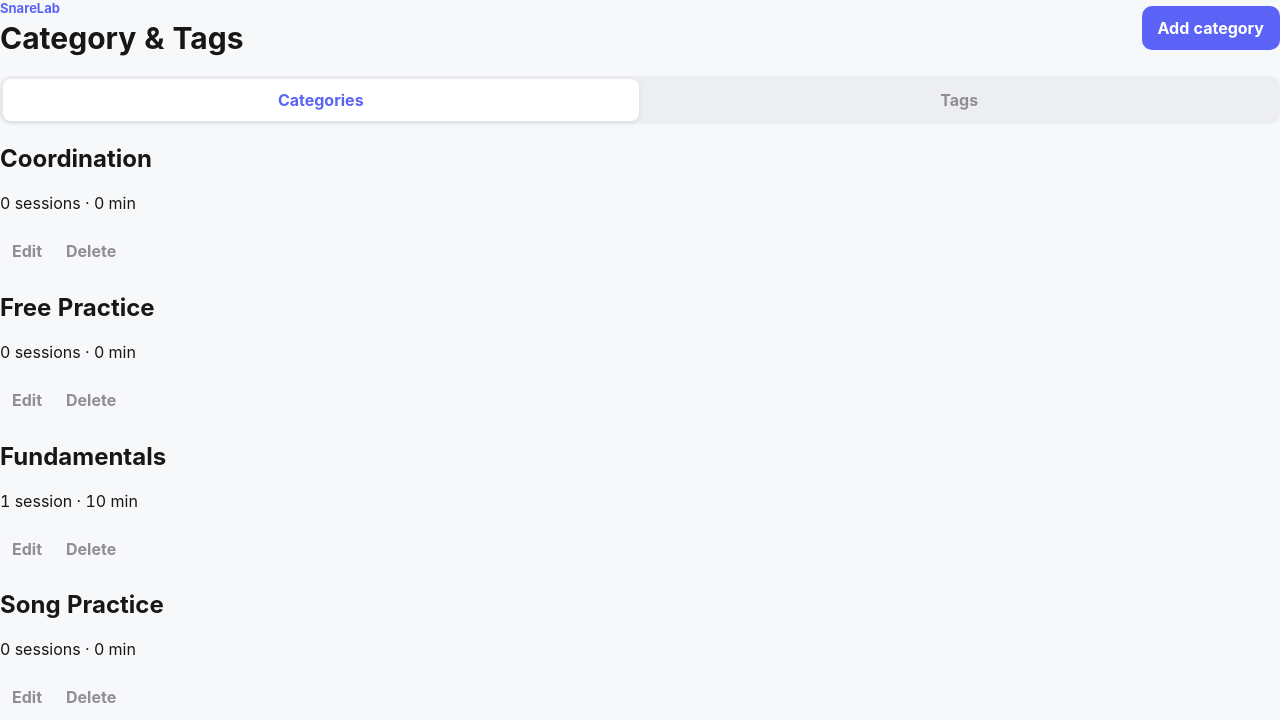
Test case: CategoryPage › creates and edits a category
The image size is (1280, 720).
Expected: the heading "Fundamentals" is shown, top-left (0, 442), bottom-right (166, 471)
Click the button "Add category" at (1211, 28), box top-left (1142, 6), bottom-right (1279, 50)
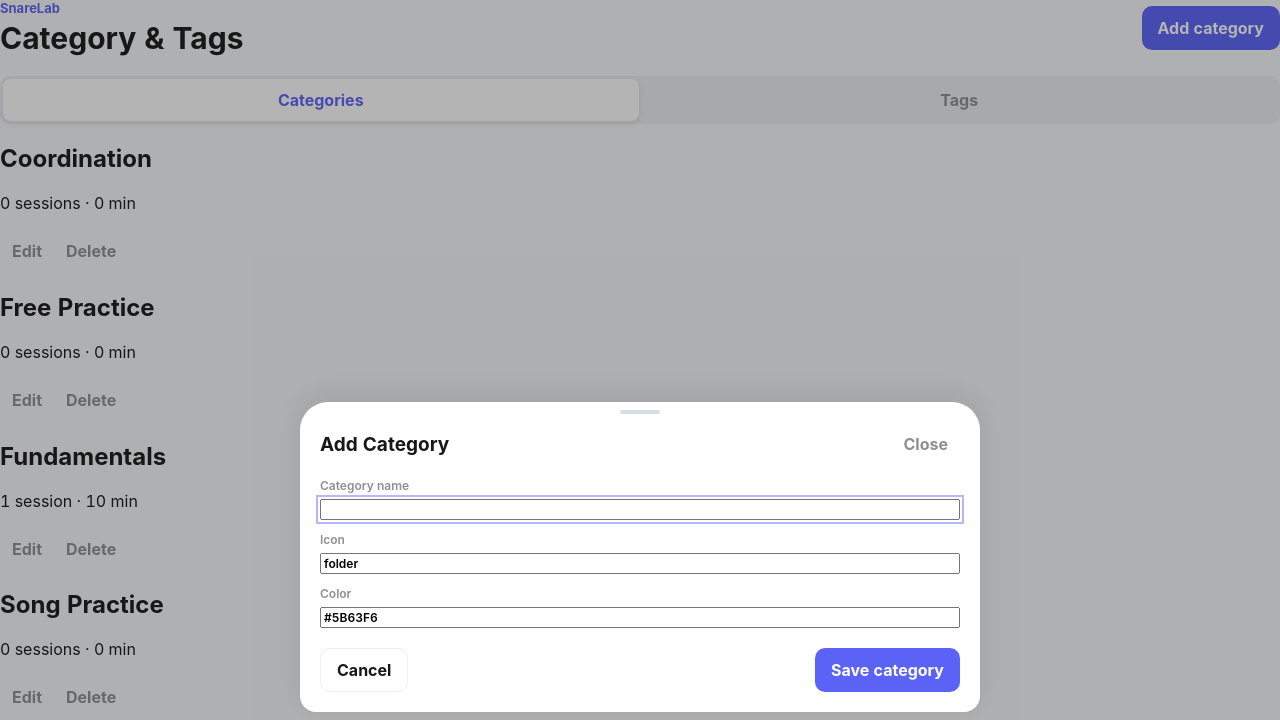
Type "Warmup" into the field labelled "Category name" at (640, 510), box top-left (320, 499), bottom-right (960, 520)
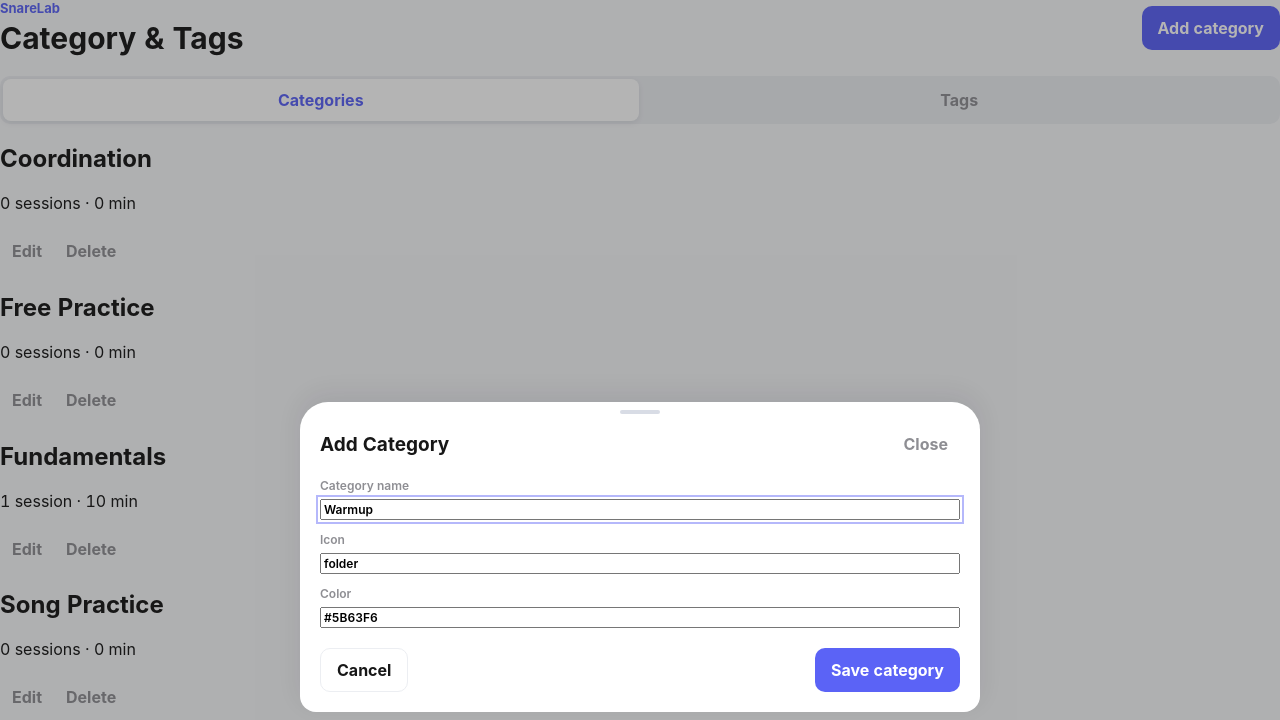
Click the button "Save category" at (888, 670), box top-left (815, 648), bottom-right (960, 692)
(page scrolled)
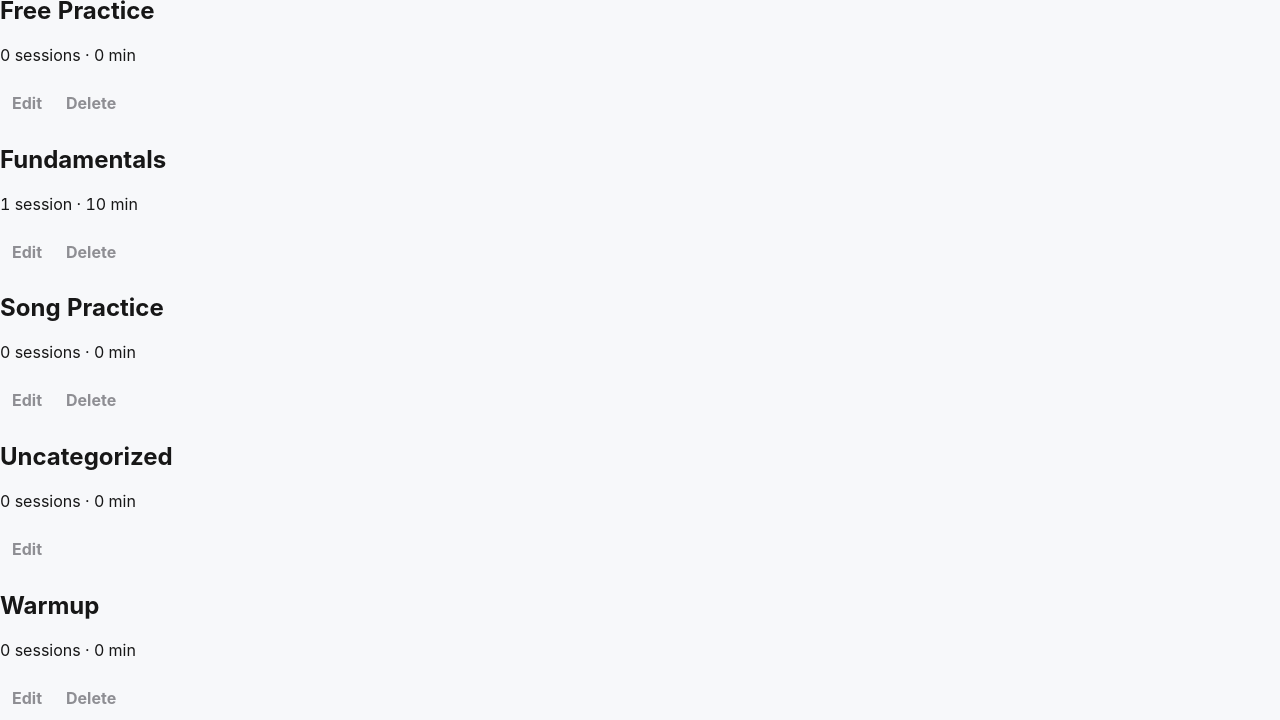
Expected: the heading "Warmup" is shown, top-left (0, 591), bottom-right (99, 620)
Click the button with aria-label "Edit Warmup" at (27, 698), box top-left (0, 676), bottom-right (54, 719)
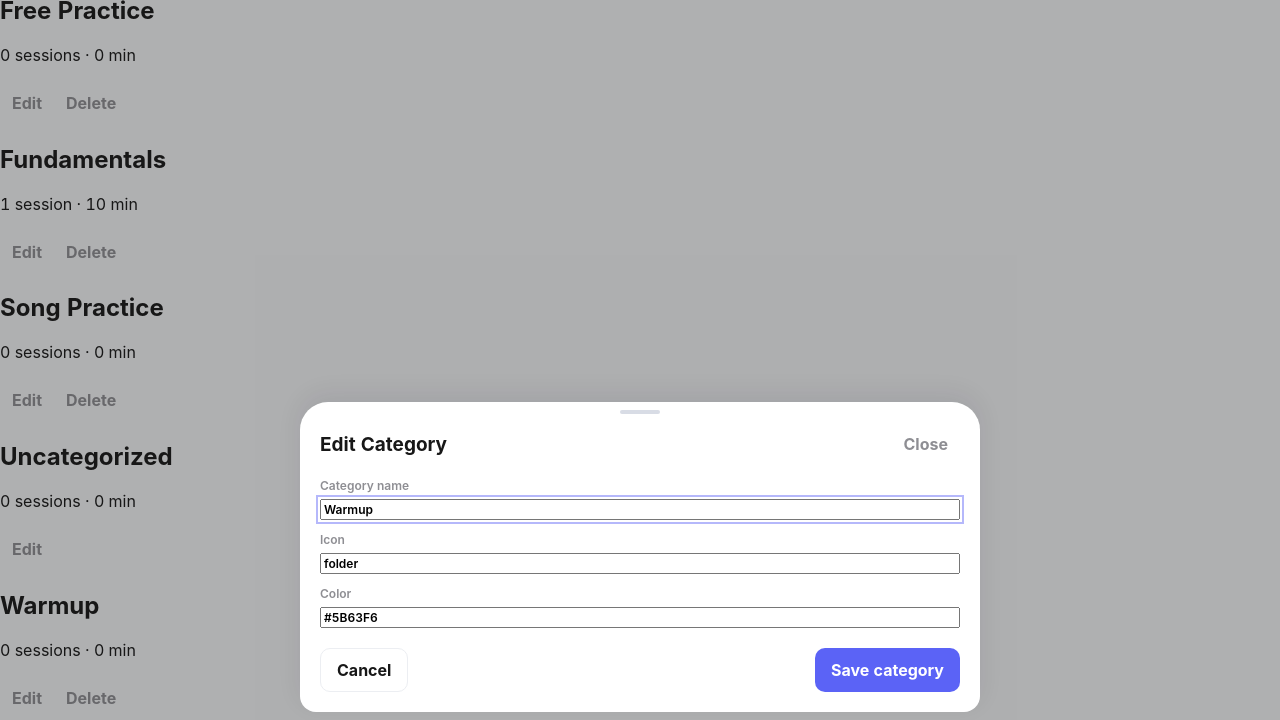
Replace the text in the field labelled "Category name" with "Daily Warmup" at (640, 510), box top-left (320, 499), bottom-right (960, 520)
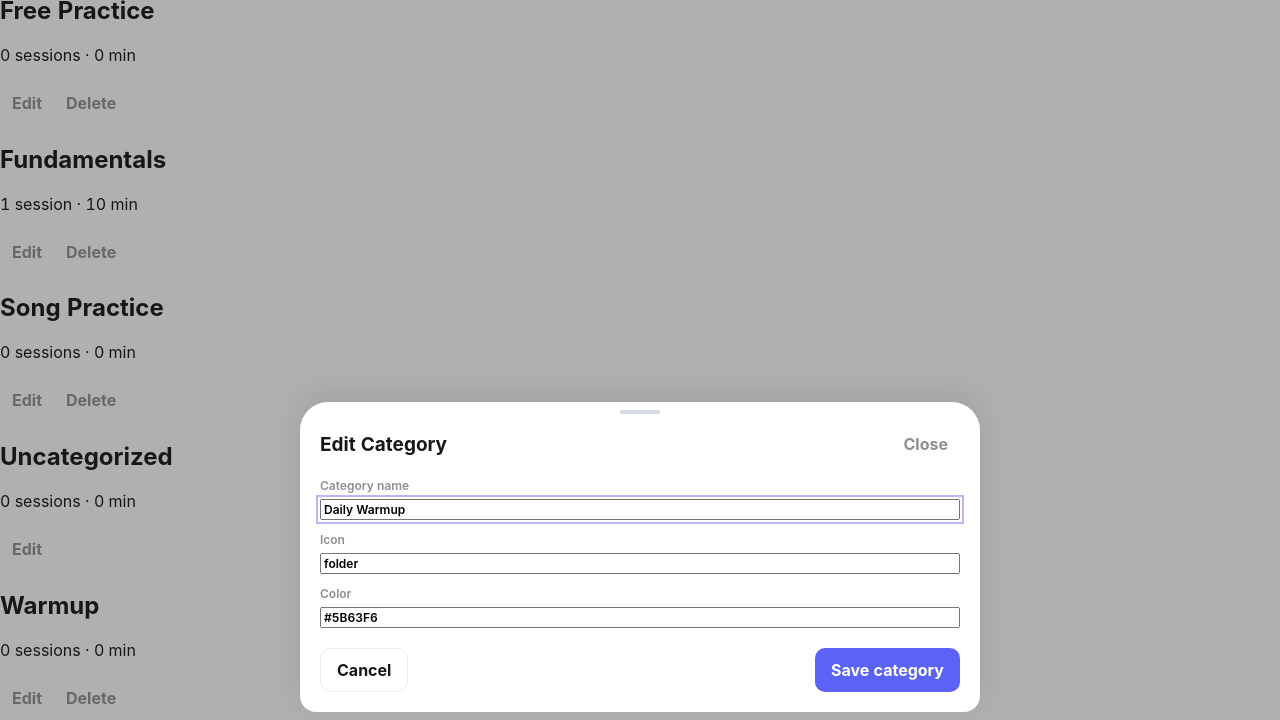
Click the button "Save category" at (888, 670), box top-left (815, 648), bottom-right (960, 692)
(page scrolled)
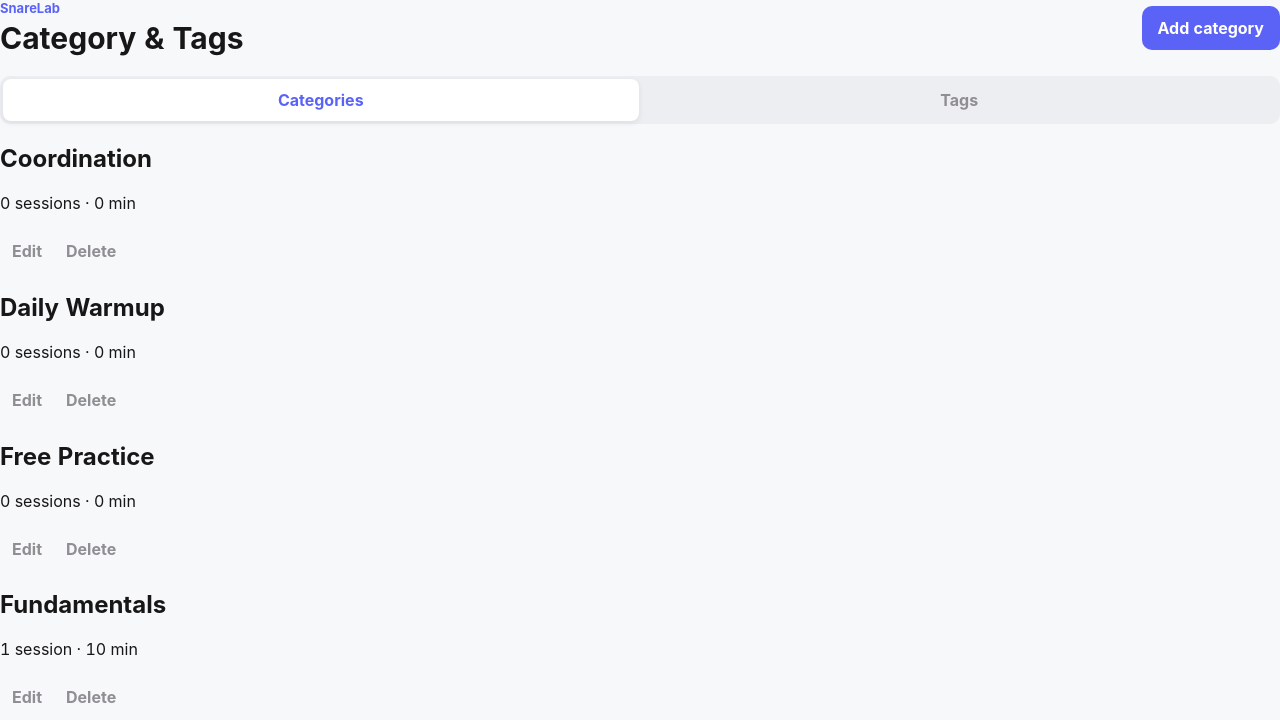
Expected: the heading "Daily Warmup" is shown, top-left (0, 293), bottom-right (165, 322)
